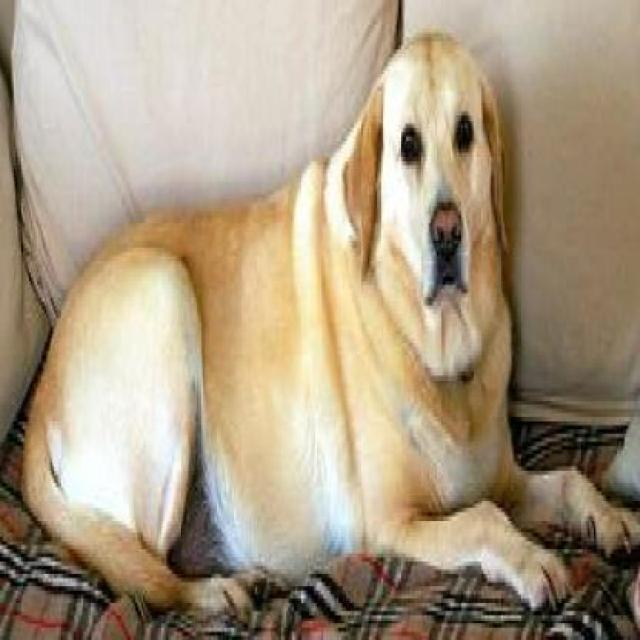Dog: (17, 27, 638, 638)
